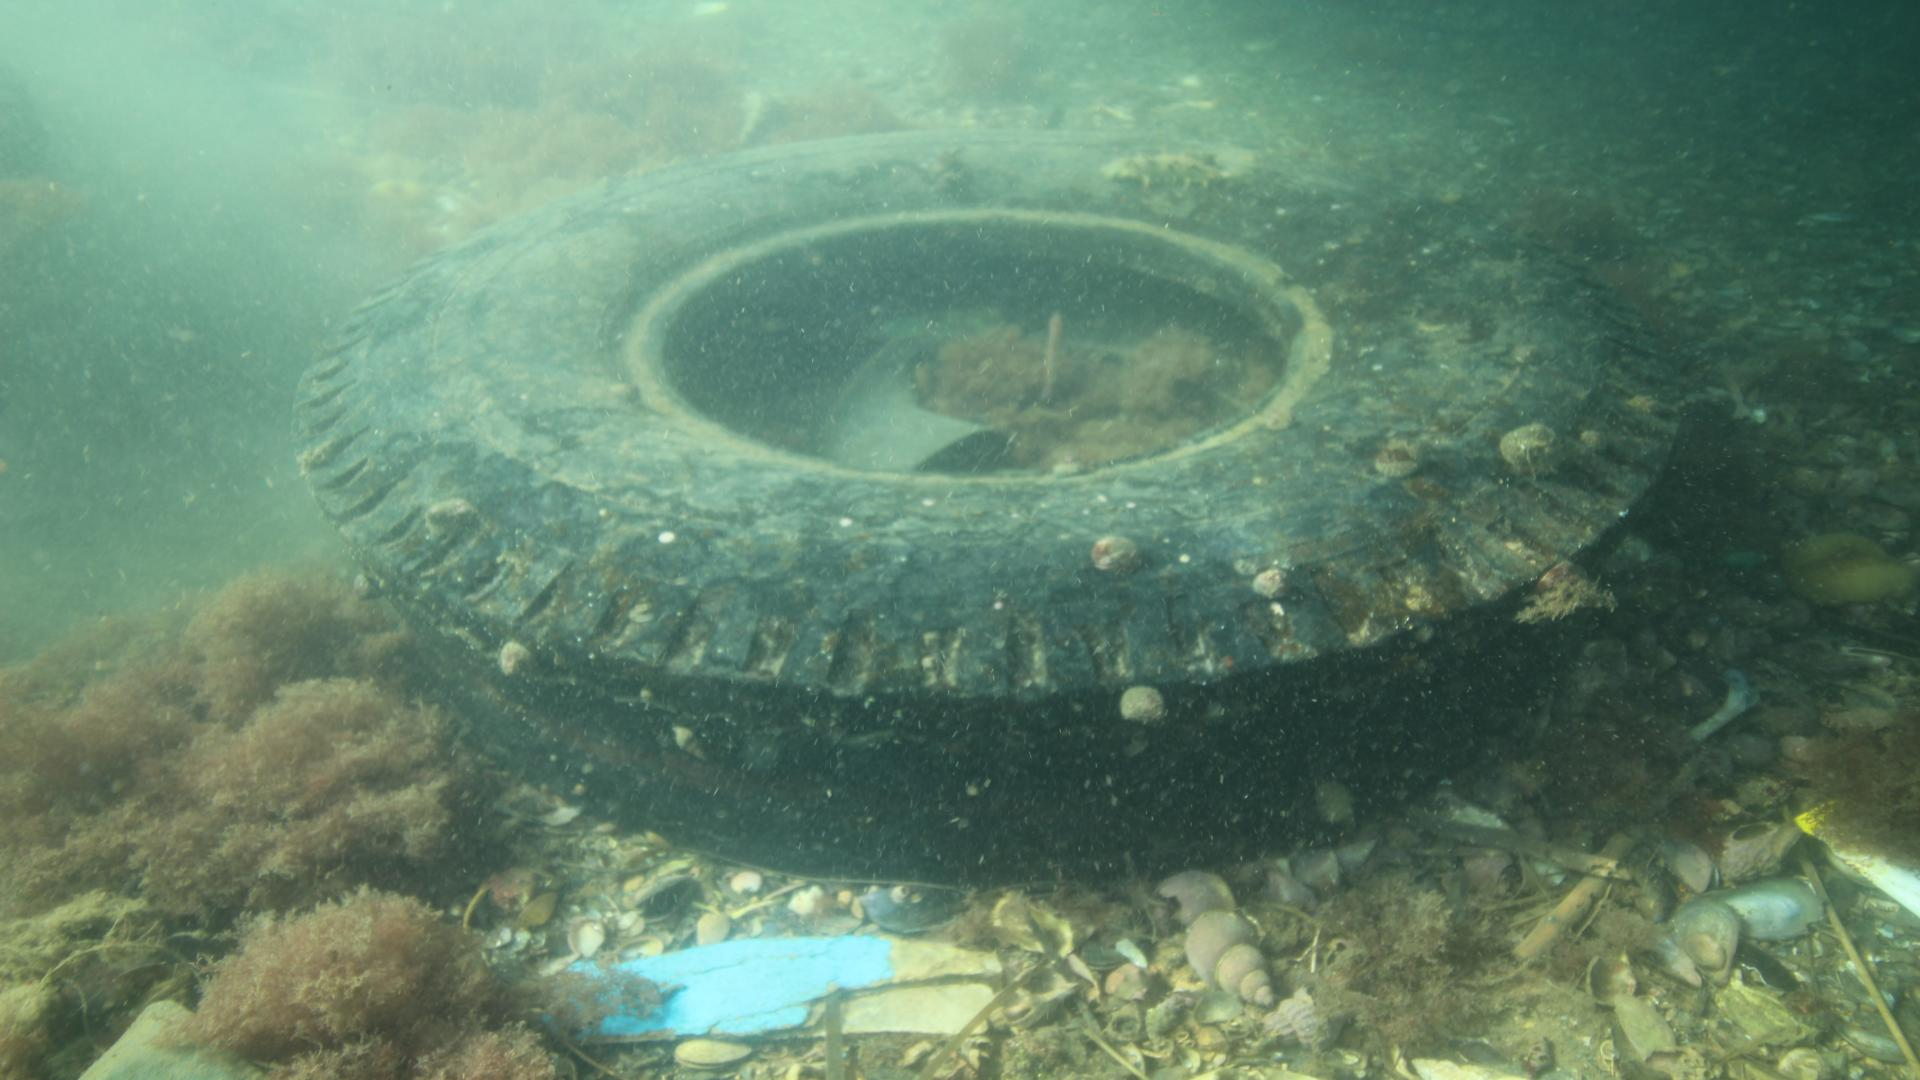tire: (287, 127, 1683, 887)
